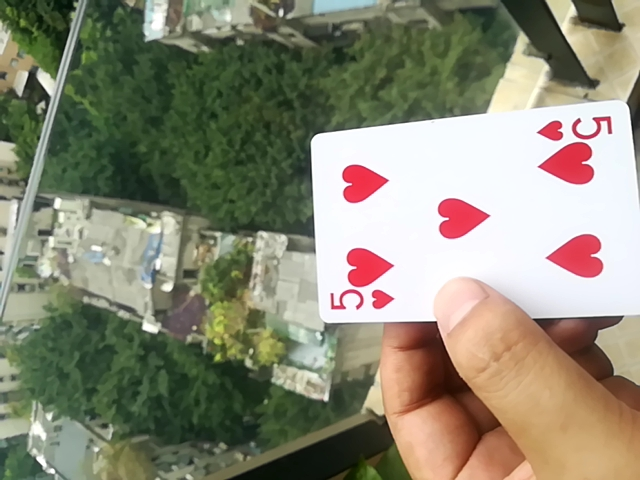hx 5: (308, 99, 636, 326)
